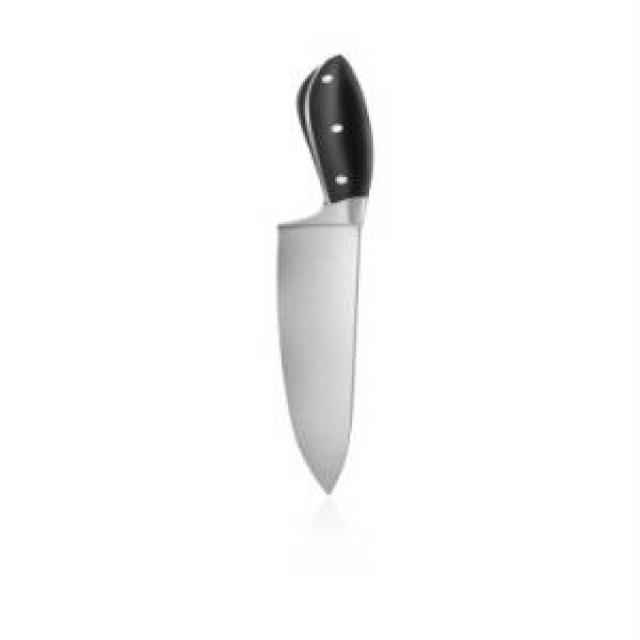knife: (230, 51, 388, 500)
